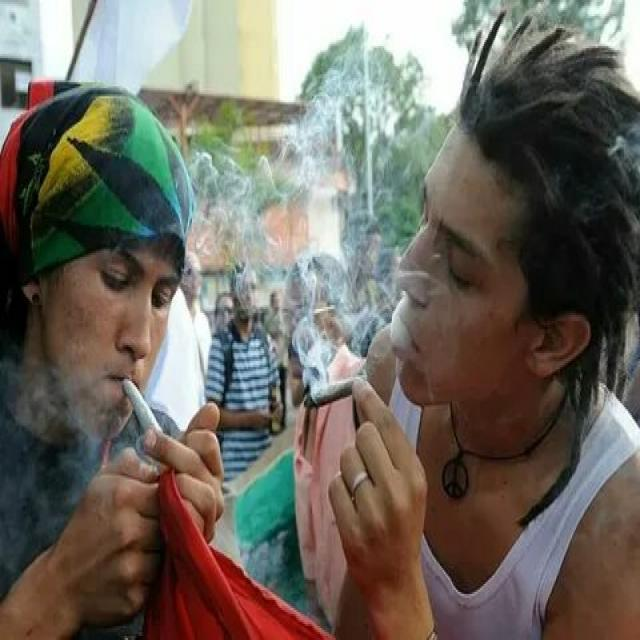smoke: (119, 373, 177, 466), (301, 373, 371, 413)
